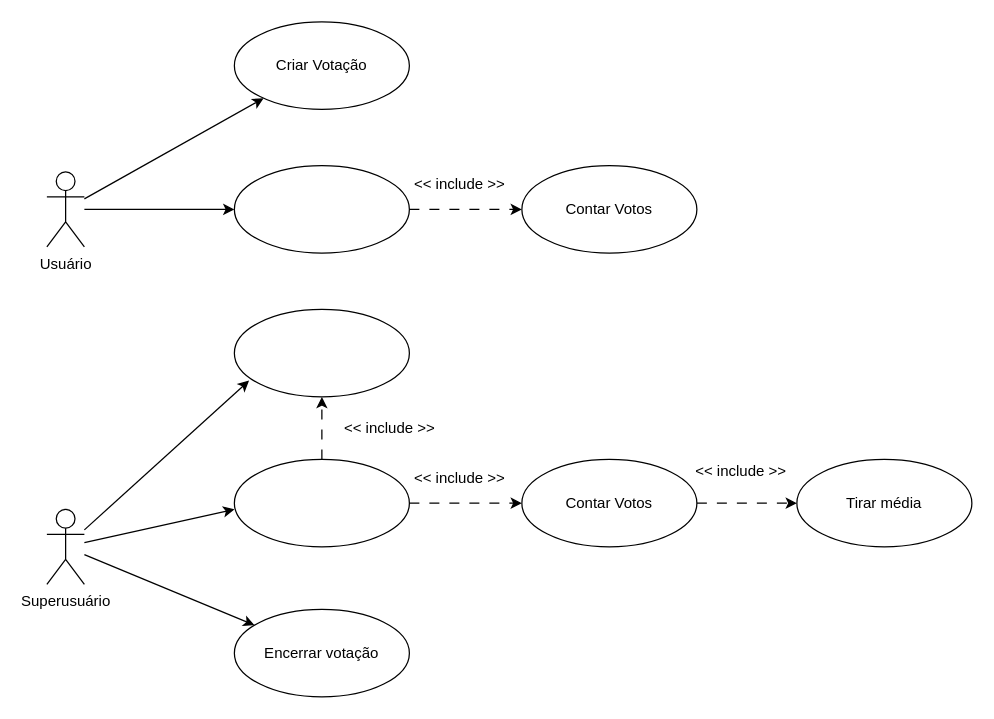
Image size: 994x719. Some labels were removed from this diagram. Here are the shapes that lost their labels. From the top down, the box of each, then its label:
(233, 164, 409, 253): Votar
(233, 308, 409, 397): Logar
(233, 458, 409, 547): Visualizar resultados
